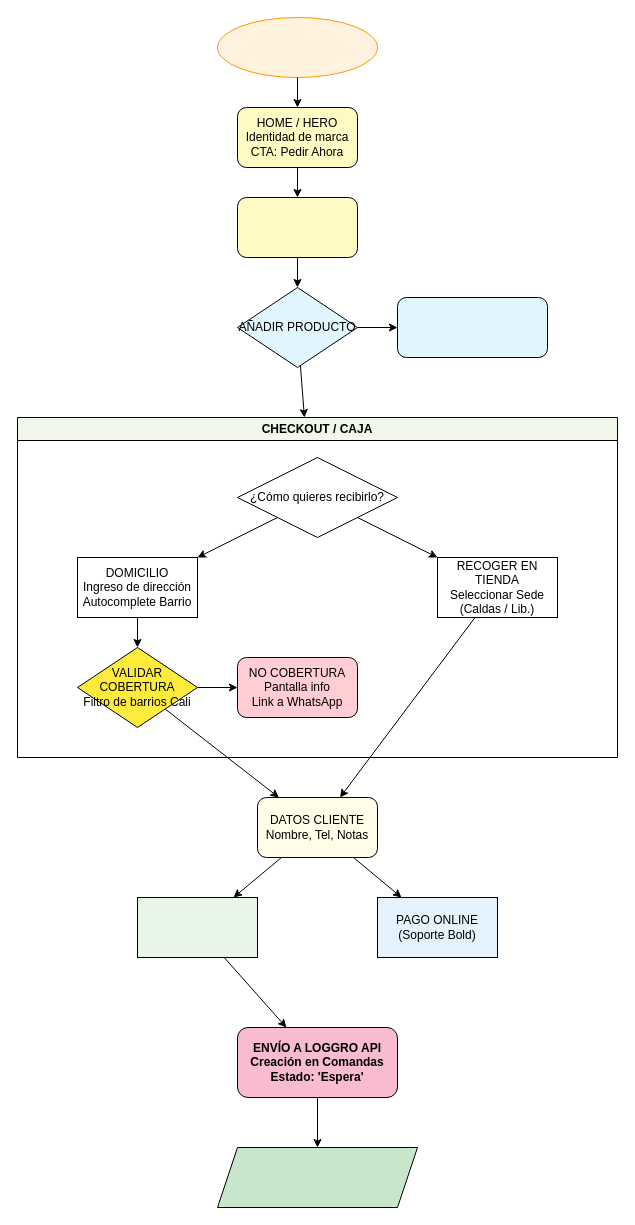
This 635x1225 diagram has some shape labels left out. Each missing label, with the centre of its shape:
CLIENTE ENTRA A paninos.co: (297,47)
CONFIRMACIÓN FINAL Resumen + WhatsApp: (317,1177)
MENÚ DIGITAL Categorías dinámicas Antojo visual: (297,227)
MODAL UPSELL Sugerencia de Bebida Aumento de Ticket Promedio: (472,327)
PAGO CONTRA ENTREGA / TIENDA: (197,927)
